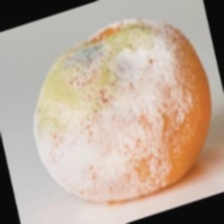orange: (54, 18, 208, 211)
